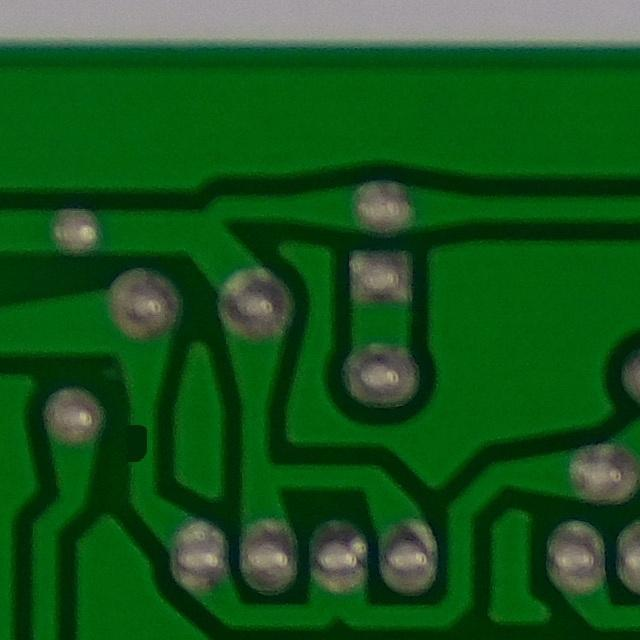mouse_bite: (107, 408, 162, 488)
